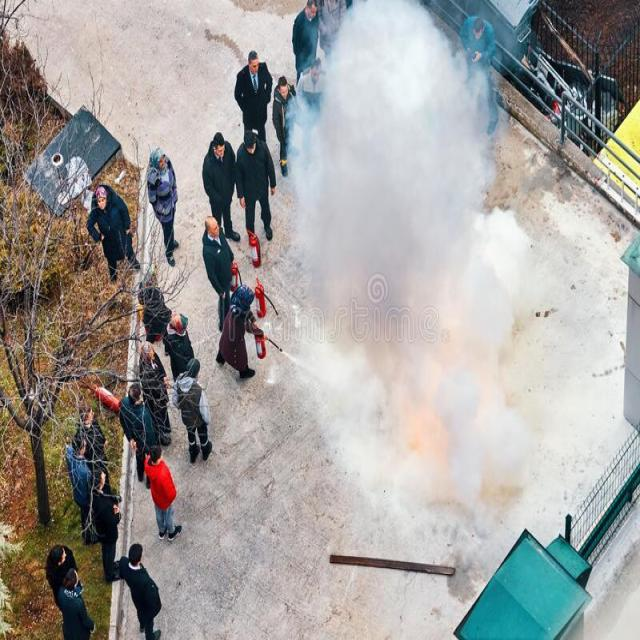fire_extinguisher: (243, 314, 284, 361), (86, 375, 124, 415), (250, 273, 280, 318), (244, 228, 266, 268), (224, 260, 245, 294)
